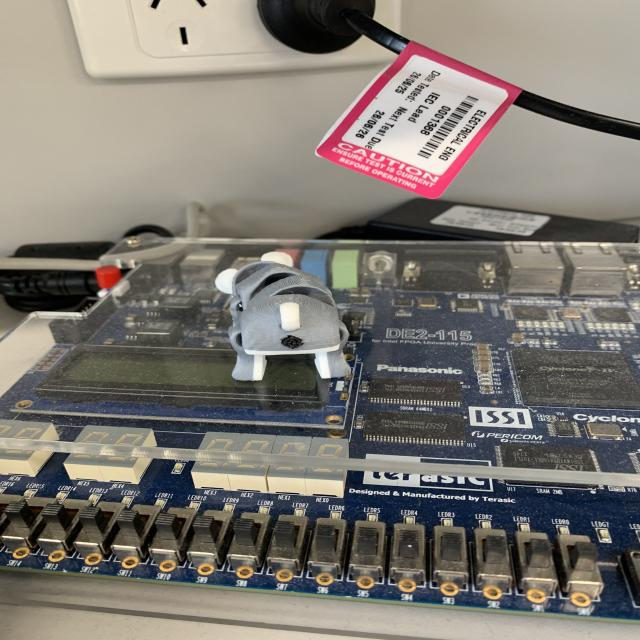koala: (194, 243, 369, 389)
